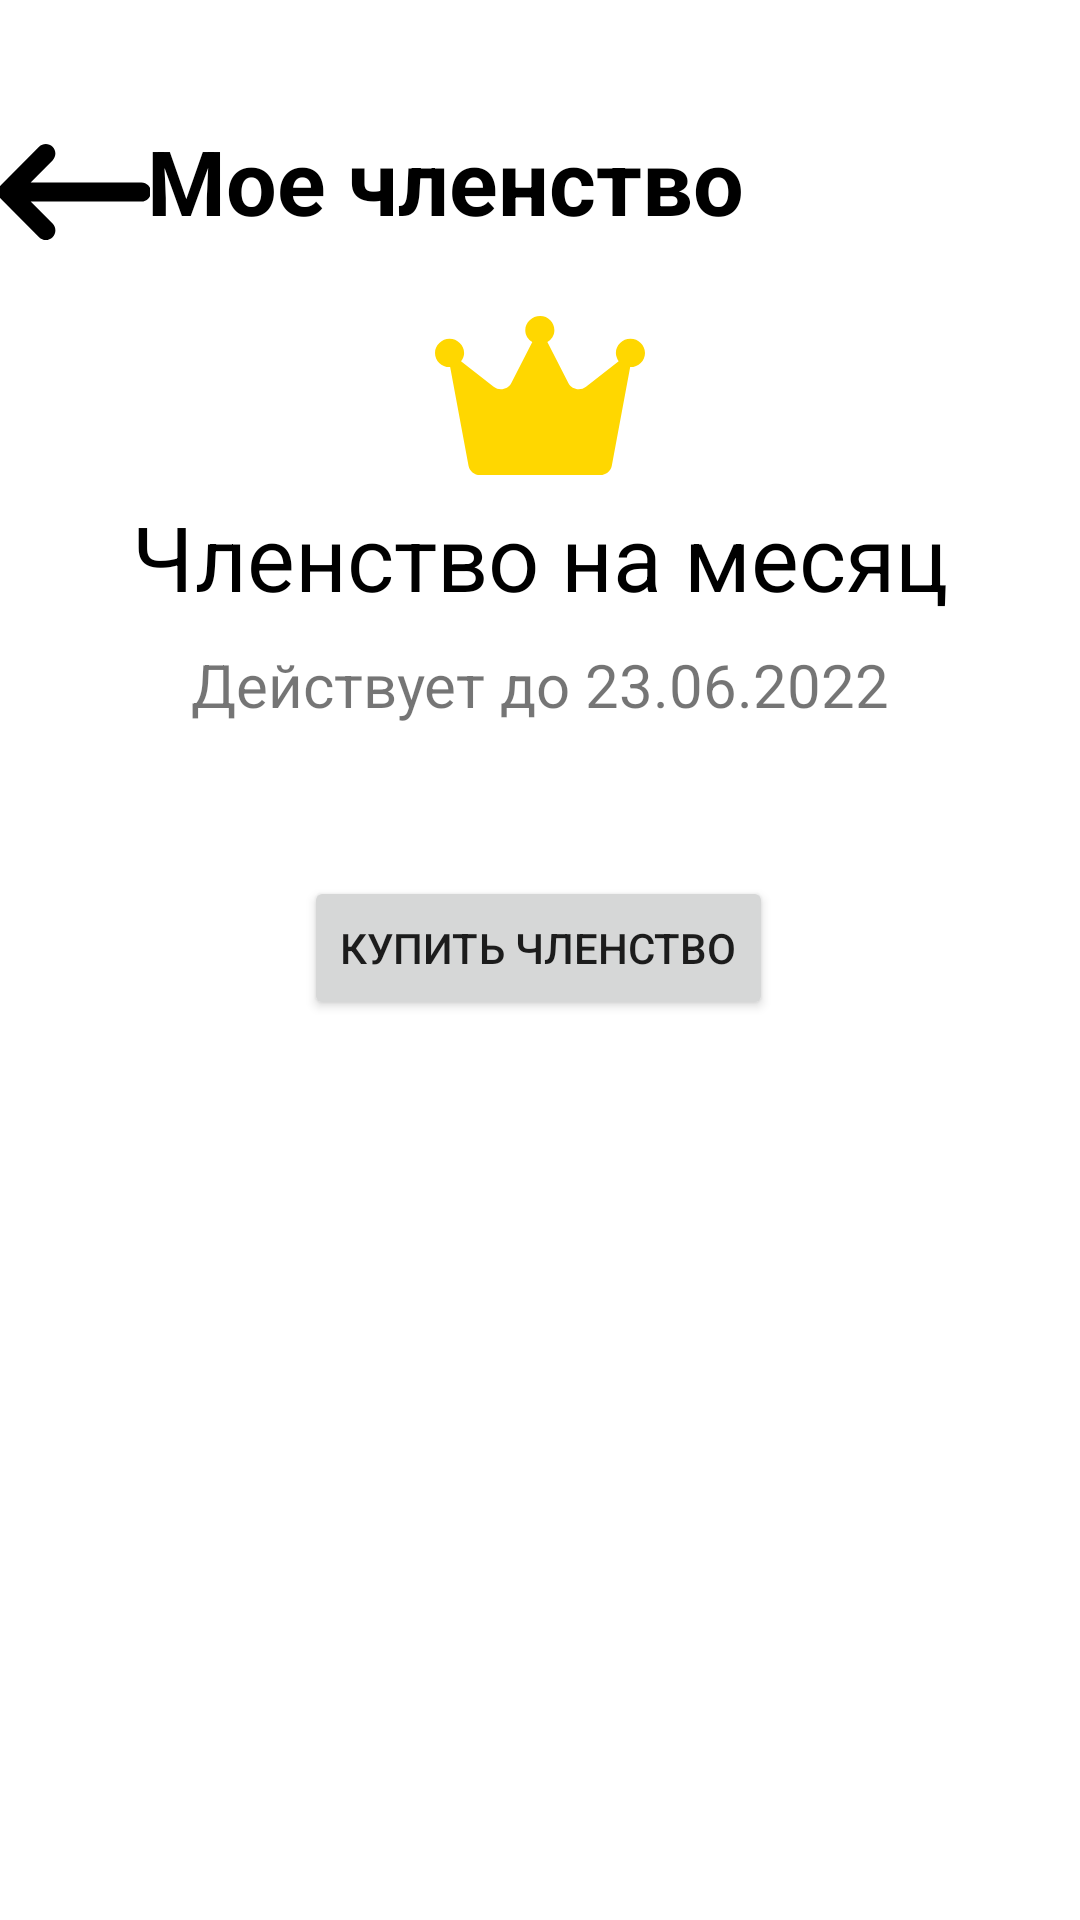

Named icons in this screenshot (1080 × 1920) and their centers, point (x, y):
btnback: point (75, 192)
crownicon: point (540, 395)
